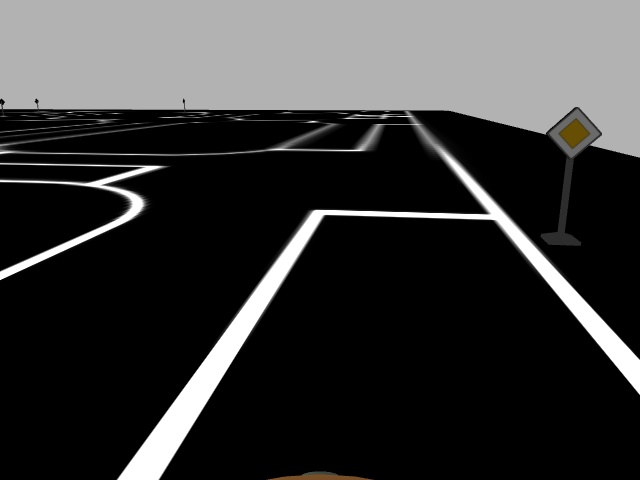priority: (544, 106, 603, 160)
